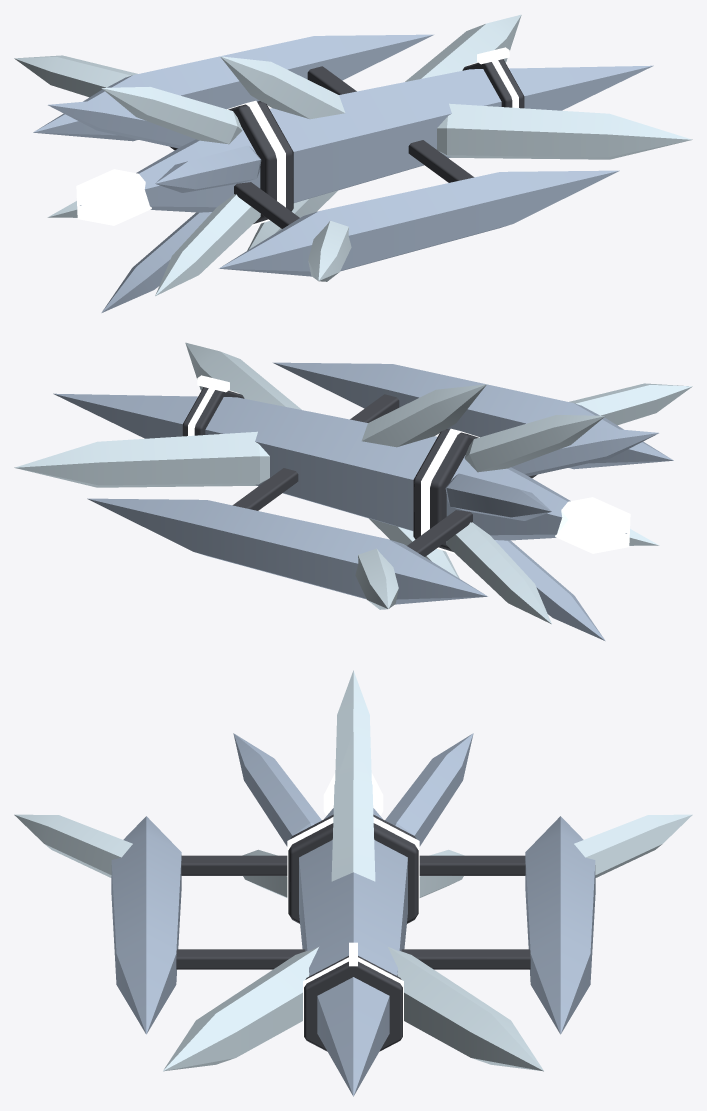
Rendered from crystal_enormous.glb.
3 renders of one model, top to bottom at view 1: azimuth 30°, elevation 25°; view 2: azimuth 150°, elevation 25°; view 3: azimuth 270°, elevation 25°, orthographic. The views are drawn at different scales.
Parts seen in each view (by area): view 1: crystal_enormous; view 2: crystal_enormous; view 3: crystal_enormous.
Part boxes in pixels (x1,y1,x2,y2): crystal_enormous: [14, 14, 692, 312]; crystal_enormous: [14, 342, 692, 640]; crystal_enormous: [14, 670, 692, 1096].
Bounding box in the file's own units: 2.5 × 0.9457 × 2.29.
